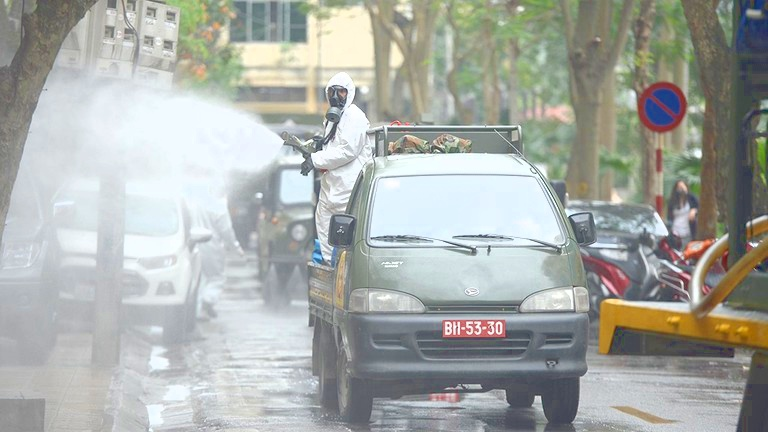plate: (442, 316, 506, 343)
